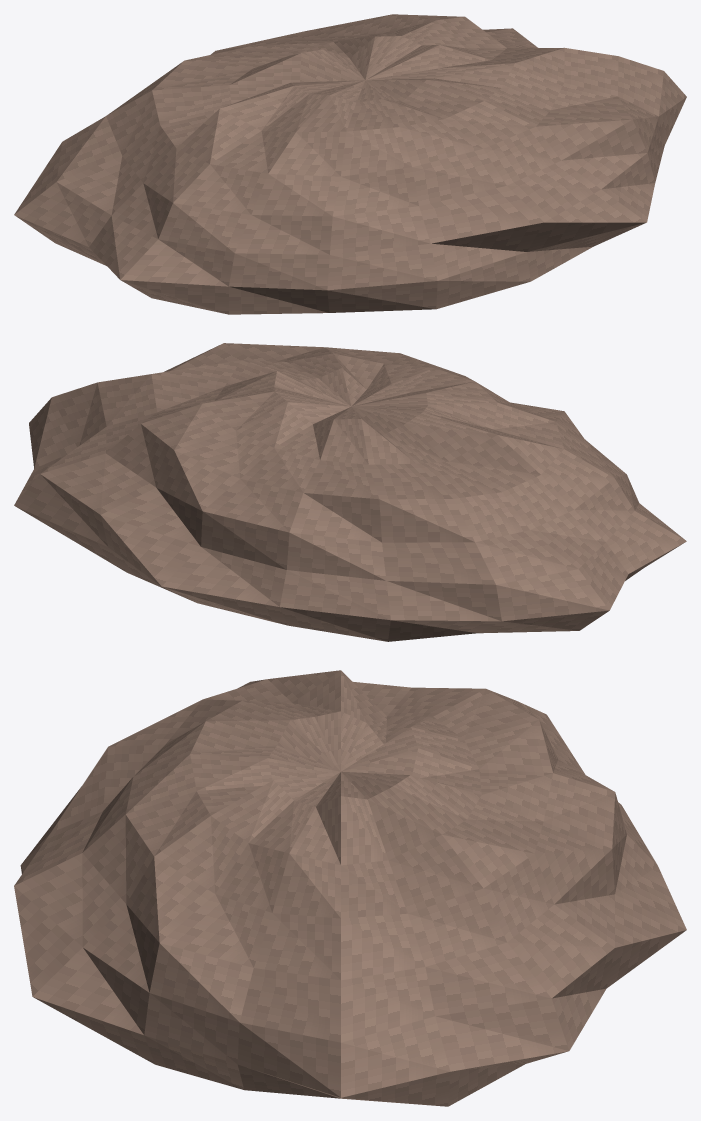
The model's file is cave-and-crystal-networks-guano-mound-fbf35668.glb.
3 renders of one model, top to bottom at view 1: azimuth 30°, elevation 25°; view 2: azimuth 150°, elevation 25°; view 3: azimuth 270°, elevation 25°, orthographic. The views are drawn at different scales.
Visible parts, largest first — view 1: guano-mound; view 2: guano-mound; view 3: guano-mound.
Part boxes in pixels (x1,y1,x2,y2): guano-mound: (14,14,686,314); guano-mound: (14,343,686,641); guano-mound: (14,670,686,1106).
Bounding box in the file's own units: 1.52 × 0.3367 × 1.09.
1 material, 1 textured.
